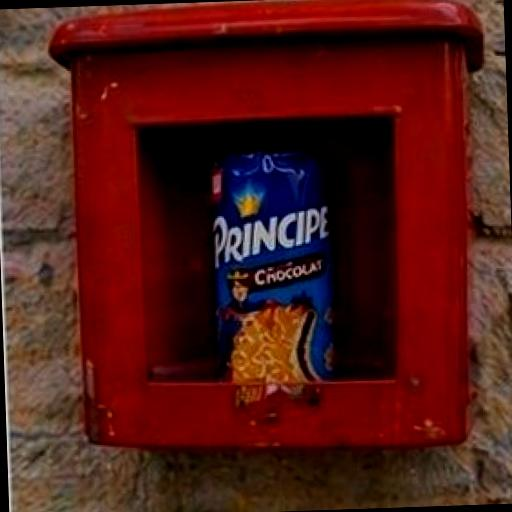prince: (162, 96, 405, 498)
